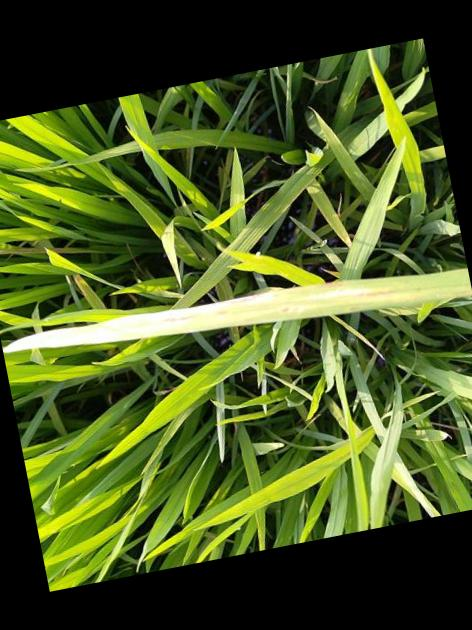Leaf Streak: (2, 277, 415, 353)
